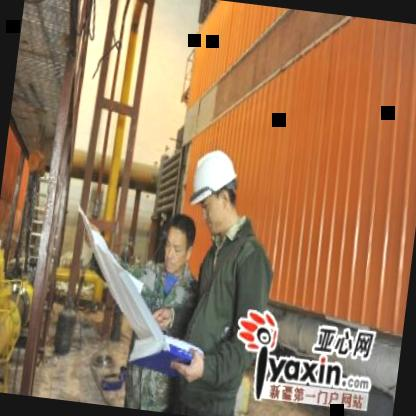head: (157, 210, 202, 278)
helmet: (182, 139, 249, 242)
